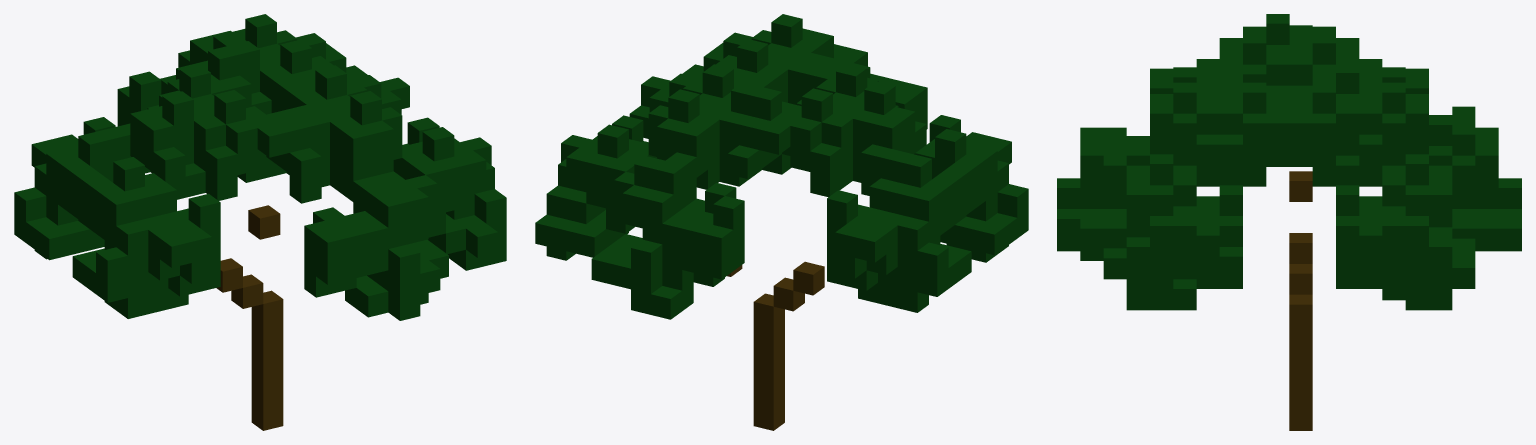
The model's file is Tree1-1-Tree1_1.obj.
The picture shows the model from 3 angles, left to right: view 1: azimuth 30°, elevation 25°; view 2: azimuth 150°, elevation 25°; view 3: azimuth 270°, elevation 25°; orthographic projection. The views are drawn at different scales.
Visible parts, largest first — view 1: Tree1_1; view 2: Tree1_1; view 3: Tree1_1.
Boxes of the visible parts, x1=… form: Tree1_1: x1=14, y1=14, x2=506, y2=430; Tree1_1: x1=535, y1=14, x2=1028, y2=430; Tree1_1: x1=1057, y1=14, x2=1521, y2=430.
Size of the model in its own units: 3.8 by 3.4 by 4.
1 material, 1 textured.
